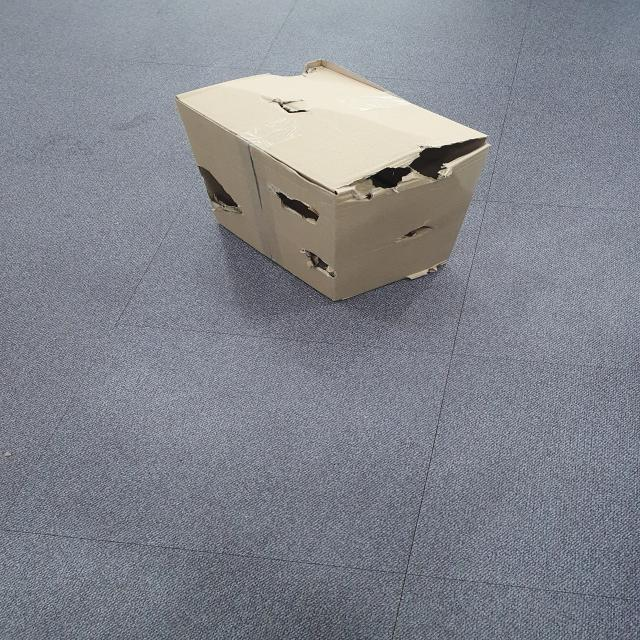hole: (338, 128, 490, 194), (194, 168, 247, 219), (271, 189, 319, 224), (264, 91, 312, 120), (297, 248, 340, 278), (393, 218, 440, 242)
